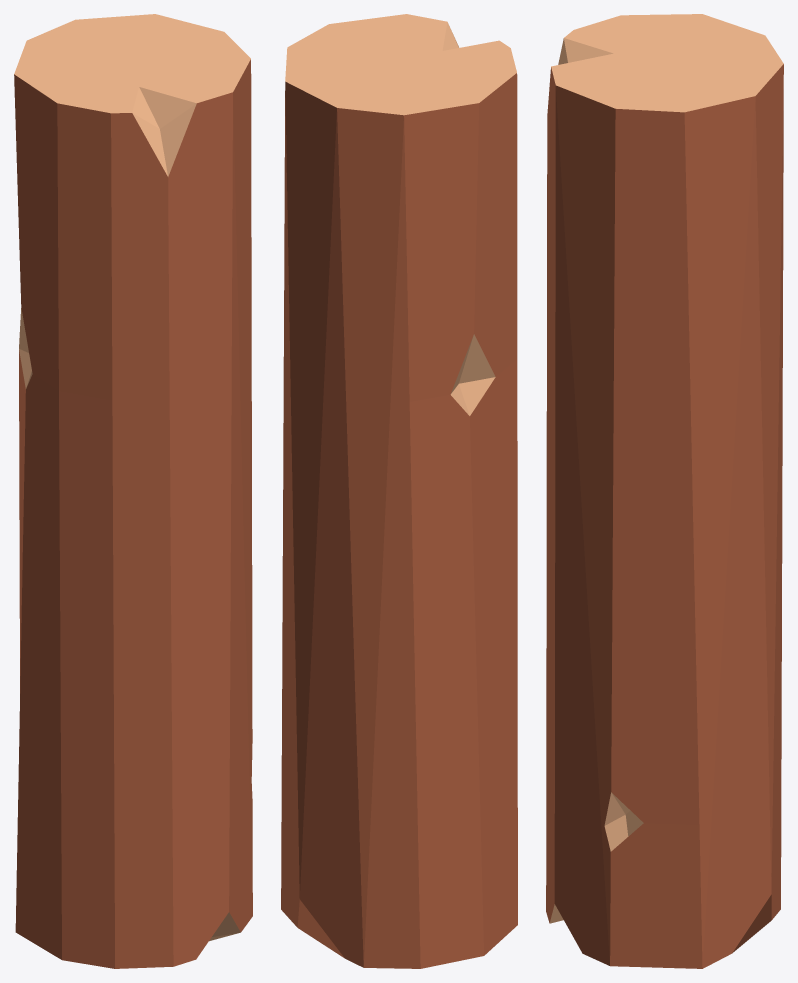
Rendered from WoodPost1.fbx.
3 renders of one model, left to right at view 1: azimuth 30°, elevation 25°; view 2: azimuth 150°, elevation 25°; view 3: azimuth 270°, elevation 25°, orthographic.
Visible parts, largest first — view 1: WoodPost1; view 2: WoodPost1; view 3: WoodPost1.
Boxes of the visible parts, <box> form: WoodPost1: <box>14,14,252,968</box>; WoodPost1: <box>281,14,517,968</box>; WoodPost1: <box>546,14,783,968</box>.
Bounding box in the file's own units: 99.22 × 400 × 100.
